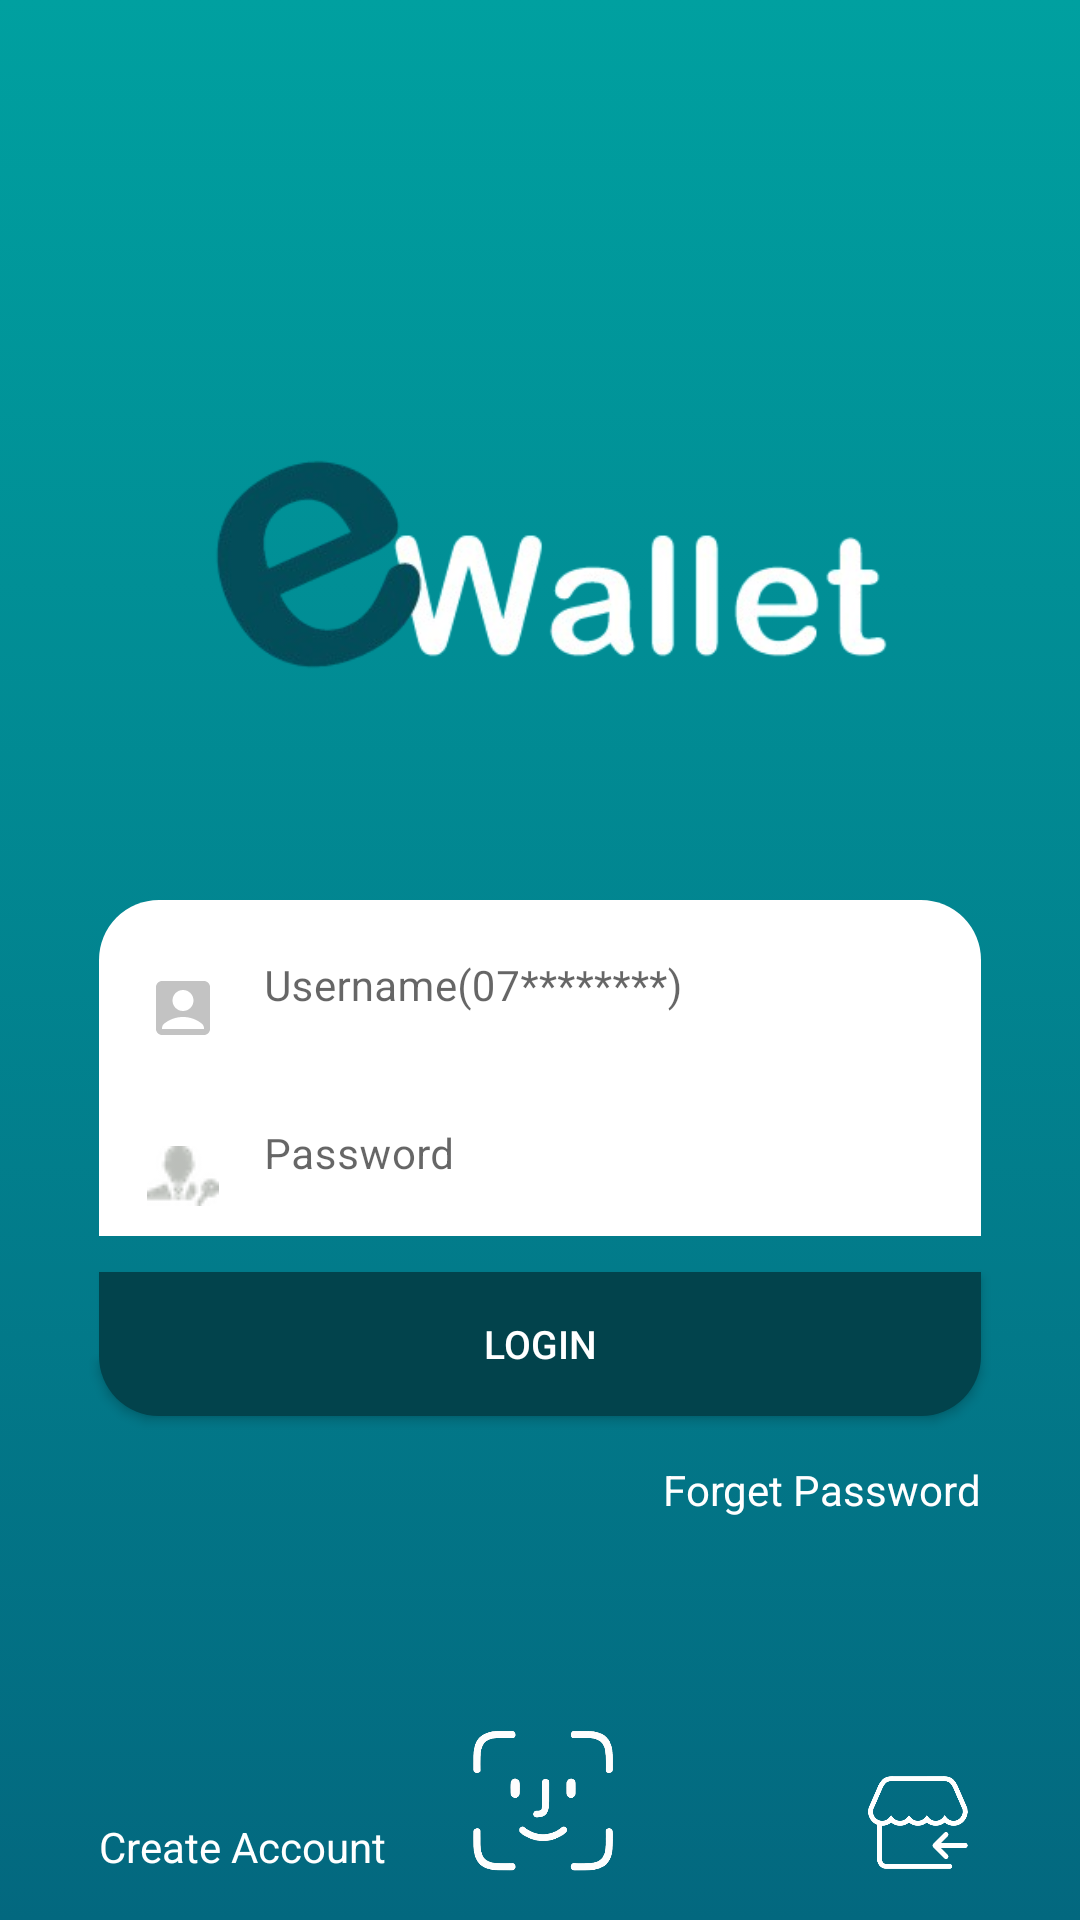

Icon bounding boxes for this 1080 × 1920 phone screenshot, format (x1, y1, x2, y2):
face id: (473, 1731, 613, 1871)
shop: (868, 1776, 968, 1869)
